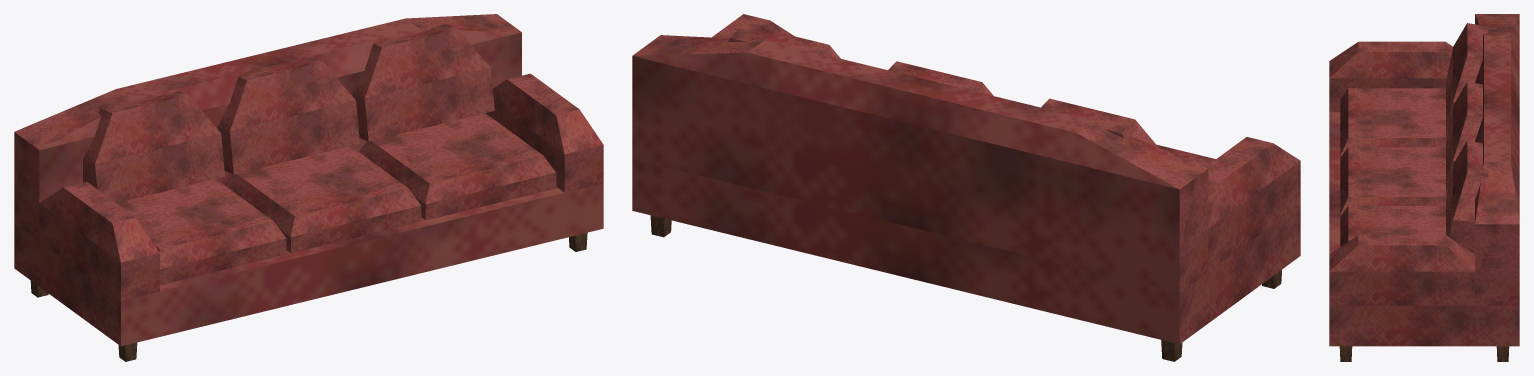
Rendered from sofa_red.fbx.
3 renders of one model, left to right at view 1: azimuth 30°, elevation 25°; view 2: azimuth 150°, elevation 25°; view 3: azimuth 270°, elevation 25°, orthographic. The views are drawn at different scales.
Parts seen in each view (by area): view 1: sofa_red; view 2: sofa_red; view 3: sofa_red.
Boxes of the visible parts, bbox=[...] form: sofa_red: bbox=[14, 14, 603, 361]; sofa_red: bbox=[632, 14, 1300, 361]; sofa_red: bbox=[1329, 14, 1519, 361].
Bounding box in the file's own units: 2.22 × 0.8029 × 0.85.
1 material, 1 textured.
